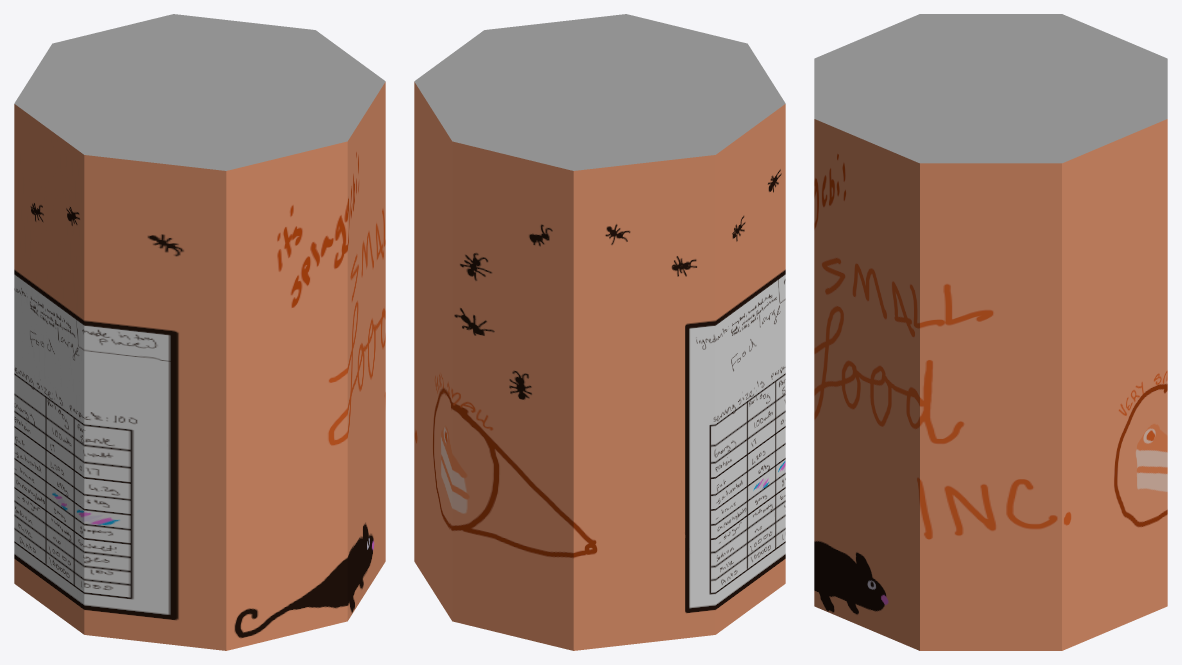
The model's file is SmallTin.fbx.
3 renders of one model, left to right at view 1: azimuth 30°, elevation 25°; view 2: azimuth 150°, elevation 25°; view 3: azimuth 270°, elevation 25°, orthographic.
Visible parts, largest first — view 1: Cube; view 2: Cube; view 3: Cube.
Boxes of the visible parts, box(x1,y1,x2,y2) form: Cube: box(14, 14, 385, 650); Cube: box(414, 14, 785, 650); Cube: box(814, 14, 1167, 650).
Size of the model in its own units: 121 by 183 by 121.
2 materials, 1 textured.
